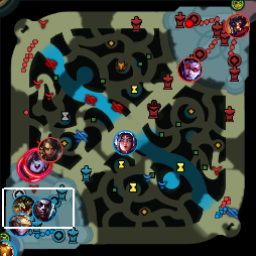bard: (1, 239, 16, 255)
ekko: (31, 196, 56, 221)
ezreal: (8, 211, 32, 236)
irelia: (113, 129, 137, 154)
lulu: (25, 148, 51, 176)
nidalee: (37, 136, 62, 162)
renekton: (11, 194, 35, 219)
vayne: (177, 57, 201, 82)
viktor: (225, 13, 250, 36)
